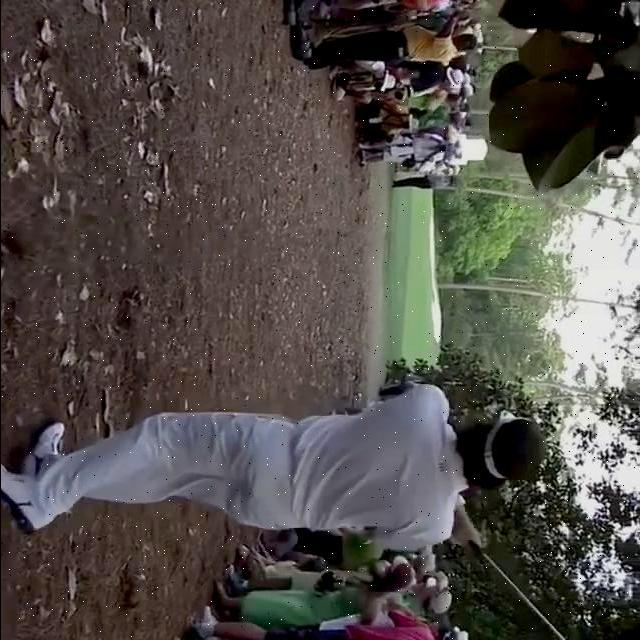ClubHandle: (467, 540, 564, 640)
